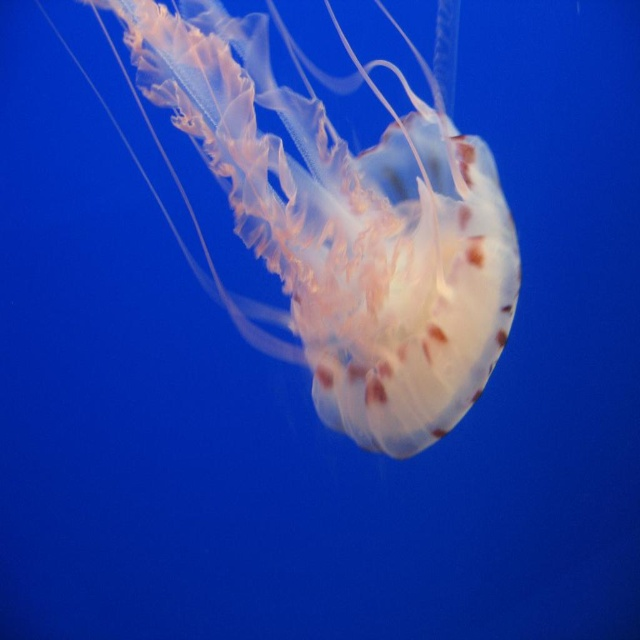Jellyfish: (34, 0, 522, 458)
